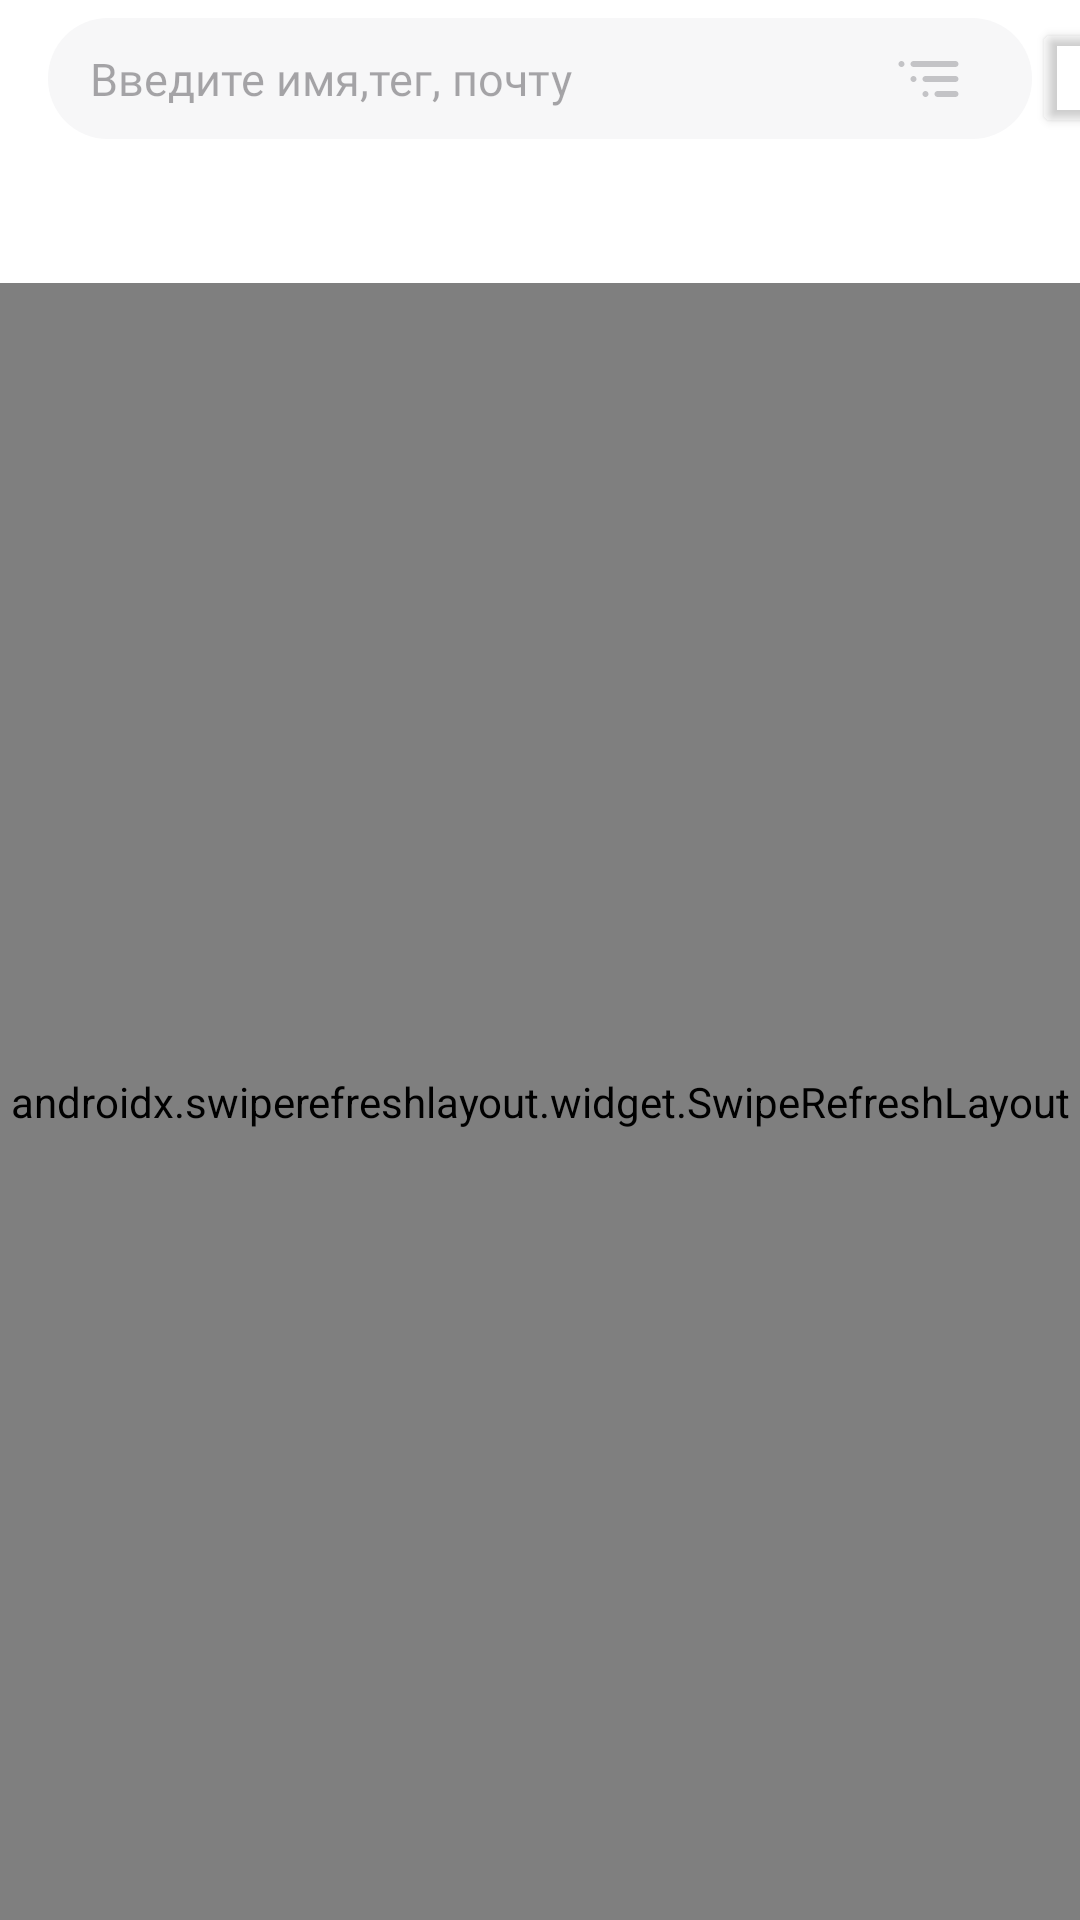

Icon click points for this 1080×1920 phone screenshot, format [x,y]:
sort: [928,79]
